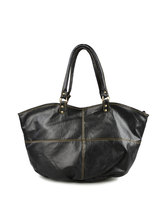bag: (12, 43, 150, 181)
